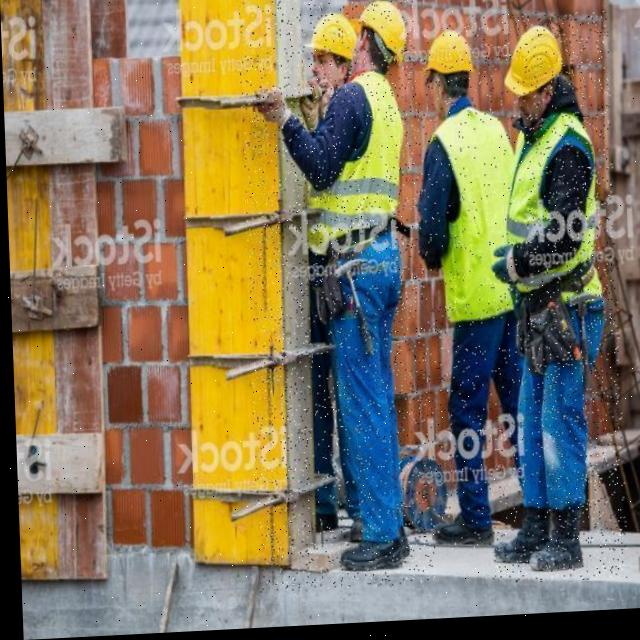Gloves: (254, 89, 290, 130)
Helmet: (502, 30, 564, 103), (358, 2, 409, 71), (424, 33, 475, 82), (311, 14, 358, 66)
Safety-Boot: (524, 511, 581, 577), (488, 510, 548, 568)
Safety-Vest: (299, 72, 407, 259), (430, 108, 520, 328), (503, 116, 602, 305)
